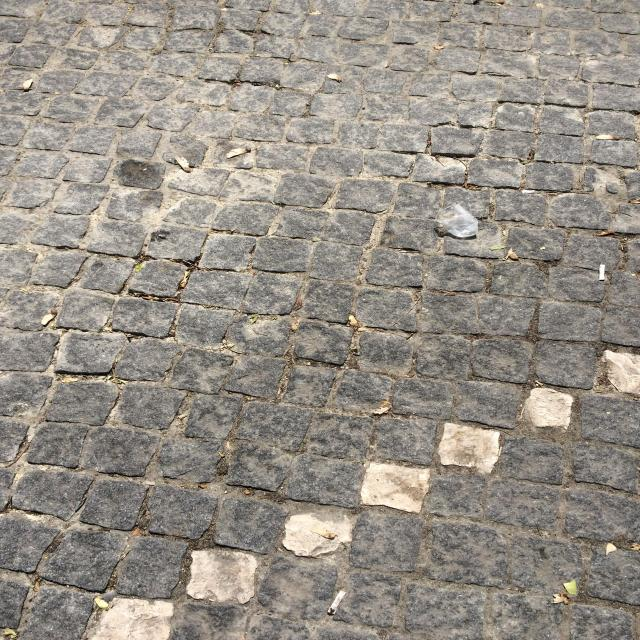litter: (434, 205, 479, 237)
